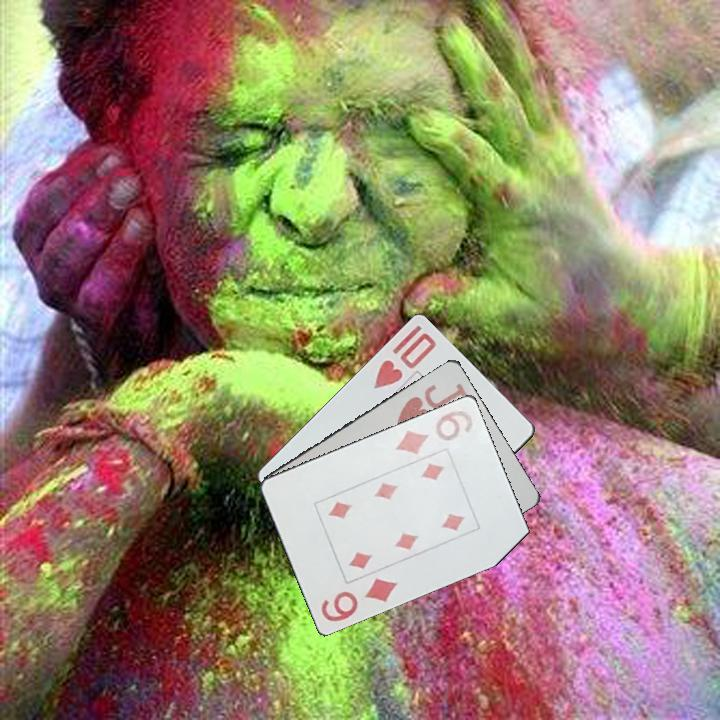6d: (392, 406, 477, 457), (317, 574, 401, 625)
Jh: (393, 379, 471, 429)
Th: (369, 329, 439, 392)
